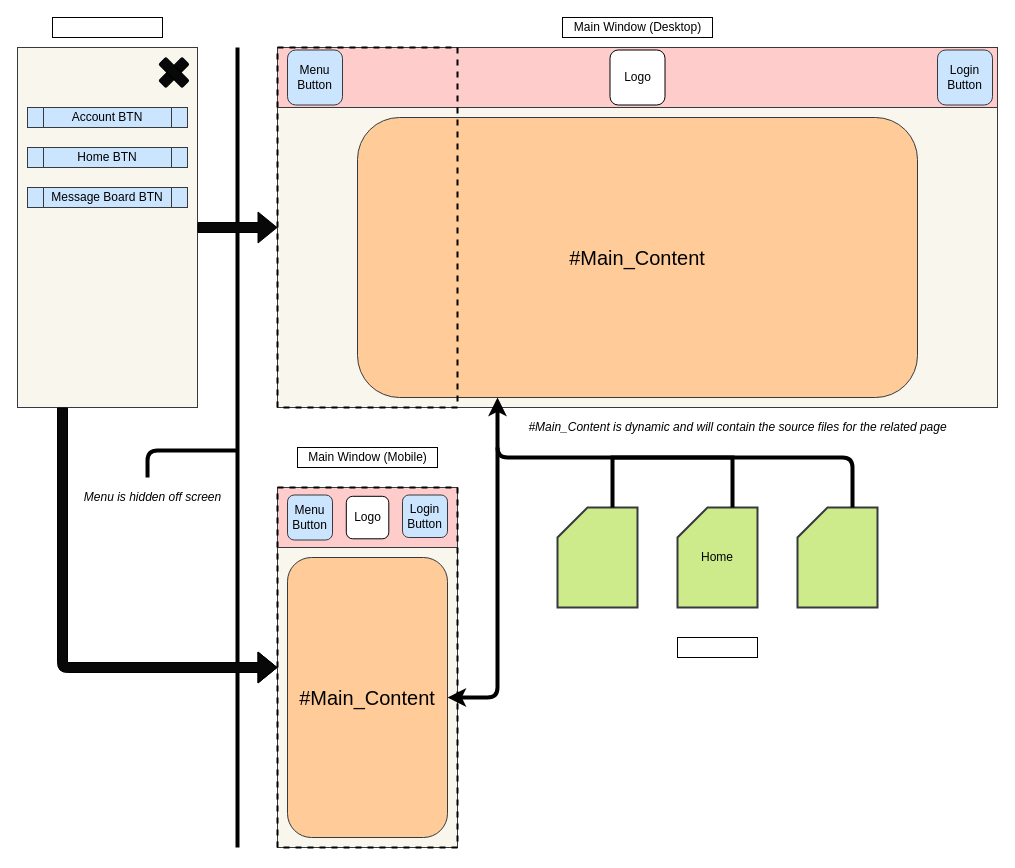
This 1015x868 diagram has some shape labels left out. Each missing label, with the box of its shape:
Account: (796, 506, 878, 608)
Message Board: (556, 506, 638, 608)
Navigation Menu: (52, 16, 162, 38)
Source Files: (676, 636, 758, 658)
